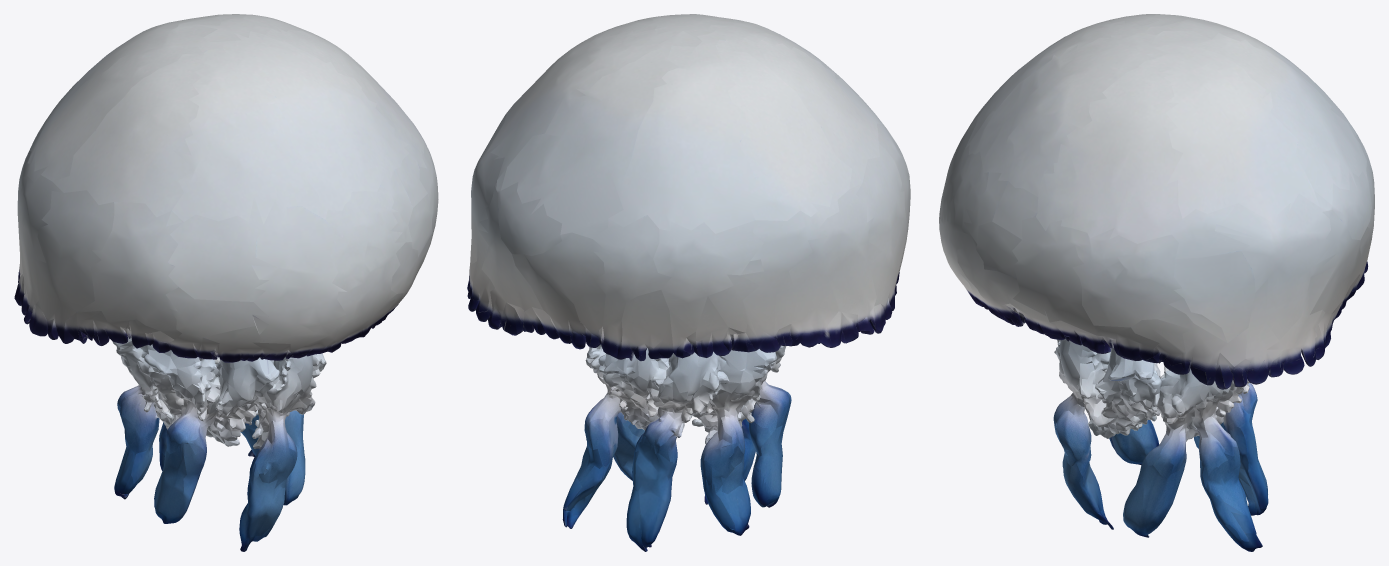
File: haepai-web.glb
3 renders of one model, left to right at view 1: azimuth 30°, elevation 25°; view 2: azimuth 150°, elevation 25°; view 3: azimuth 270°, elevation 25°, orthographic.
Parts seen in each view (by area): view 1: output_unwrapped; view 2: output_unwrapped; view 3: output_unwrapped.
Boxes of the visible parts, box(x1,y1,x2,y2) form: output_unwrapped: box(14, 14, 438, 551); output_unwrapped: box(467, 14, 910, 551); output_unwrapped: box(939, 14, 1374, 551).
Bounding box in the file's own units: 1.54 × 1.9 × 1.53.
1 material, 1 textured.
